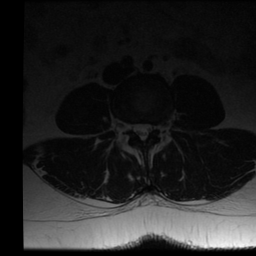CCS_normal: (139, 117, 146, 146)
LFS_stenosis: (152, 114, 160, 137)
LLS_normal: (146, 117, 153, 141)
RFS_normal: (123, 114, 131, 138)
RLS_normal: (131, 116, 139, 139)
